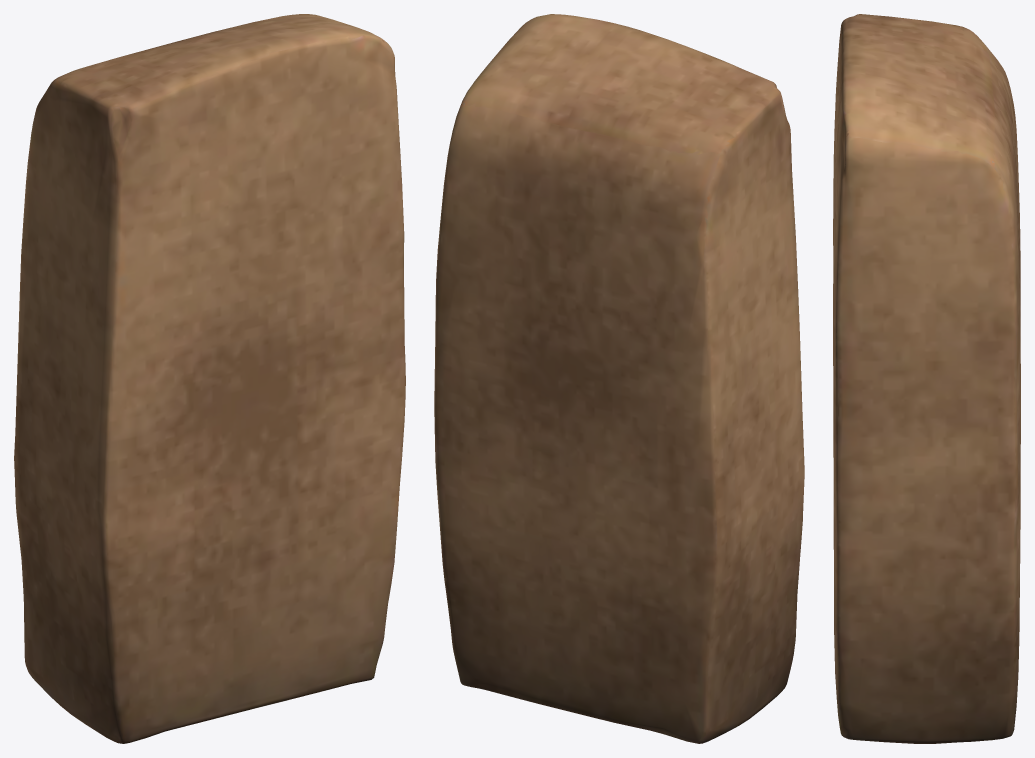
File: simple-sandstone-milestone-v001.glb
3 views of the same model, side by side, from view 1: azimuth 30°, elevation 25°; view 2: azimuth 150°, elevation 25°; view 3: azimuth 270°, elevation 25° (orthographic). The views are drawn at different scales.
Visible parts, largest first — view 1: simple-sandstone-milestone; view 2: simple-sandstone-milestone; view 3: simple-sandstone-milestone.
Part boxes in pixels (x1,y1,x2,y2): simple-sandstone-milestone: [14, 14, 405, 743]; simple-sandstone-milestone: [434, 14, 804, 743]; simple-sandstone-milestone: [833, 14, 1020, 743].
Bounding box in the file's own units: 0.5327 × 1.1 × 0.2959.
Materials: 1 (1 with a texture image).
